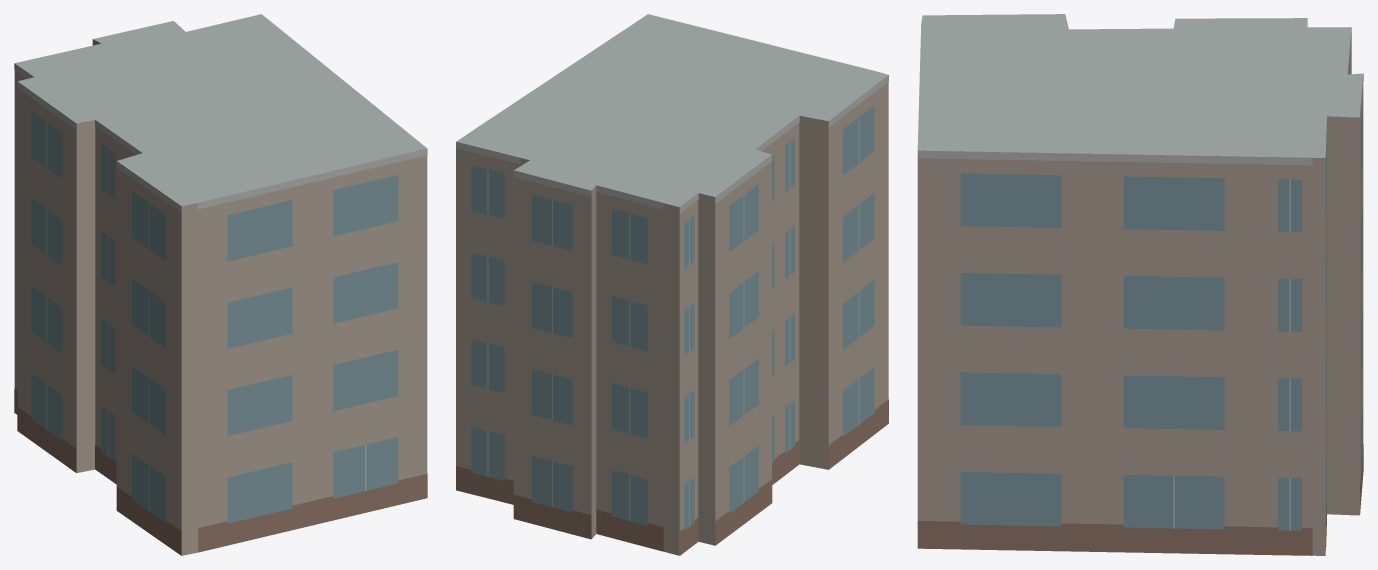
The model's file is survey-upis-32663499.glb.
The picture shows the model from 3 angles, left to right: view 1: azimuth 30°, elevation 25°; view 2: azimuth 150°, elevation 25°; view 3: azimuth 270°, elevation 25°; orthographic projection. The views are drawn at different scales.
Visible parts, largest first — view 1: survey-upis-32663499.tmp; view 2: survey-upis-32663499.tmp; view 3: survey-upis-32663499.tmp.
Boxes of the visible parts, <box> form: survey-upis-32663499.tmp: <box>14,14,427,555</box>; survey-upis-32663499.tmp: <box>456,14,888,555</box>; survey-upis-32663499.tmp: <box>917,14,1363,555</box>.
Size of the model in its own units: 9.93 by 12.8 by 13.
